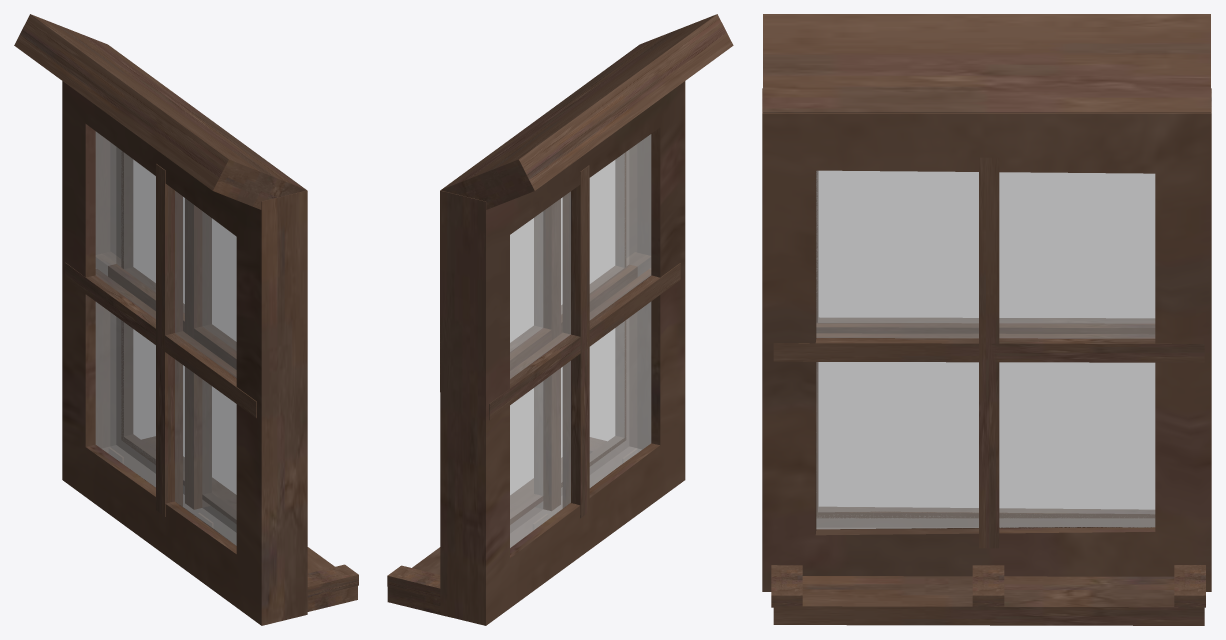
Rendered from window.glb.
The picture shows the model from 3 angles, left to right: view 1: azimuth 30°, elevation 25°; view 2: azimuth 150°, elevation 25°; view 3: azimuth 270°, elevation 25°; orthographic projection. The views are drawn at different scales.
Parts seen in each view (by area): view 1: Cube, Cube.001, Cube.008, Cube.002, Cube.005, Cube.007, Cube.006; view 2: Cube, Cube.001, Cube.008, Cube.002, Cube.005, Cube.006, Cube.007; view 3: Cube.001, Cube, Cube.008, Cube.006, Cube.005, Cube.002, Cube.007.
Part boxes in pixels (bbox=[...]): Cube: bbox=[62, 81, 307, 625]; Cube.001: bbox=[95, 131, 236, 545]; Cube.008: bbox=[14, 14, 306, 209]; Cube.002: bbox=[156, 164, 211, 516]; Cube.005: bbox=[65, 252, 256, 417]; Cube.007: bbox=[109, 436, 358, 597]; Cube.006: bbox=[183, 456, 357, 611]; Cube: bbox=[440, 81, 685, 625]; Cube.001: bbox=[510, 134, 651, 547]; Cube.008: bbox=[441, 14, 733, 209]; Cube.002: bbox=[534, 165, 589, 518]; Cube.005: bbox=[489, 252, 680, 420]; Cube.006: bbox=[387, 457, 562, 616]; Cube.007: bbox=[387, 437, 637, 599]; Cube.001: bbox=[816, 170, 1155, 529]; Cube: bbox=[762, 88, 1211, 591]; Cube.008: bbox=[763, 14, 1210, 112]; Cube.006: bbox=[773, 576, 1204, 625]; Cube.005: bbox=[773, 317, 1204, 362]; Cube.002: bbox=[979, 157, 999, 548]; Cube.007: bbox=[771, 565, 1205, 607].
Size of the model in its own units: 1.22 by 3.71 by 2.8.
2 materials, 1 textured.
